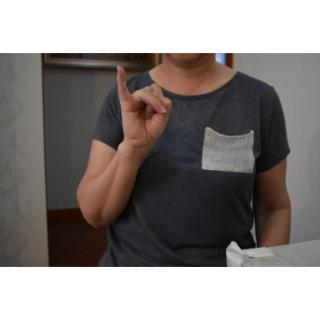MEEM: (112, 59, 173, 153)
